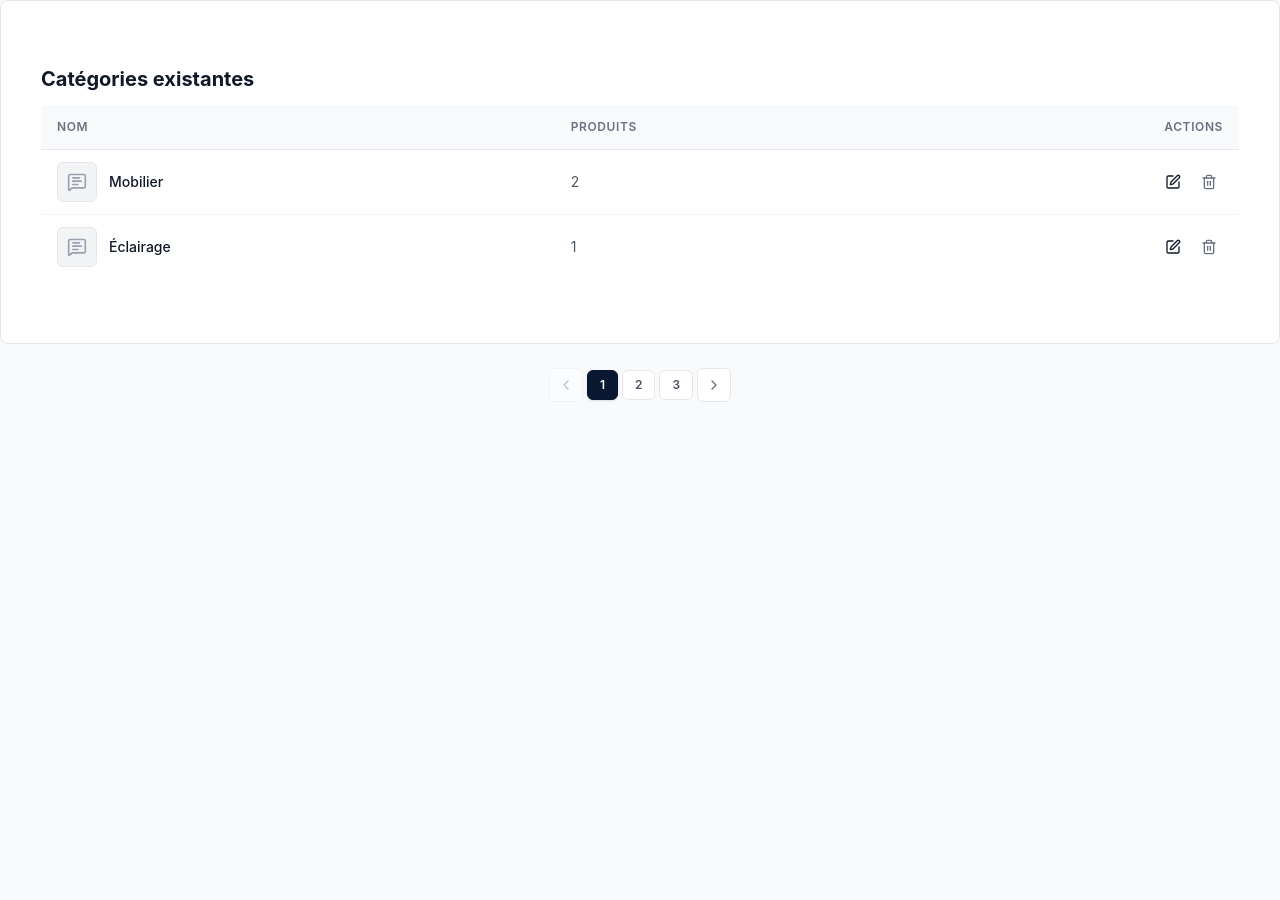
Test case: AdminCategoryTable — suppression › ferme la modale au clic sur Annuler
Click the button named "supprimer mobilier".
click(1209, 182)  # box [1195,168,1223,196]
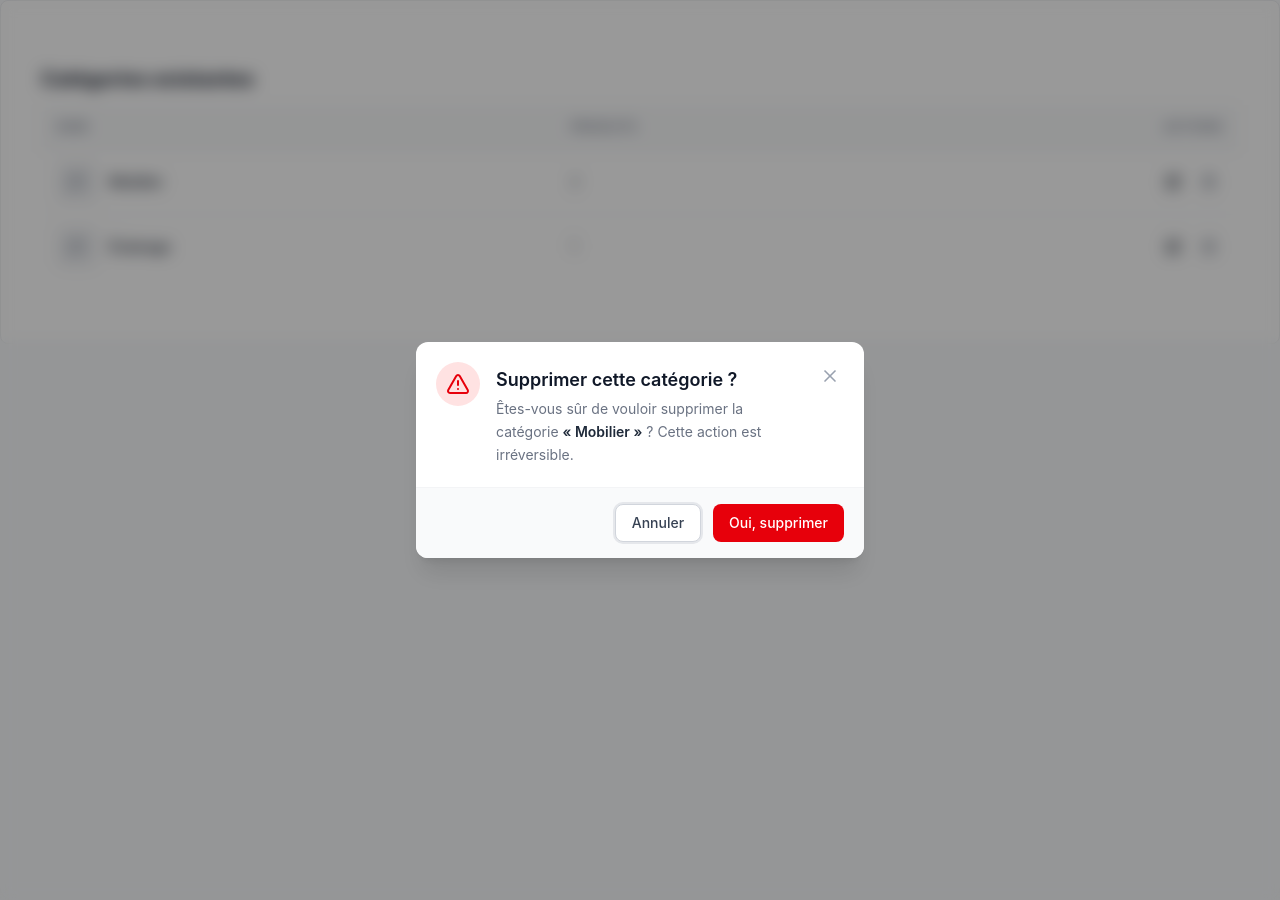
Click the button "Annuler".
click(658, 523)  # box [615,504,701,542]
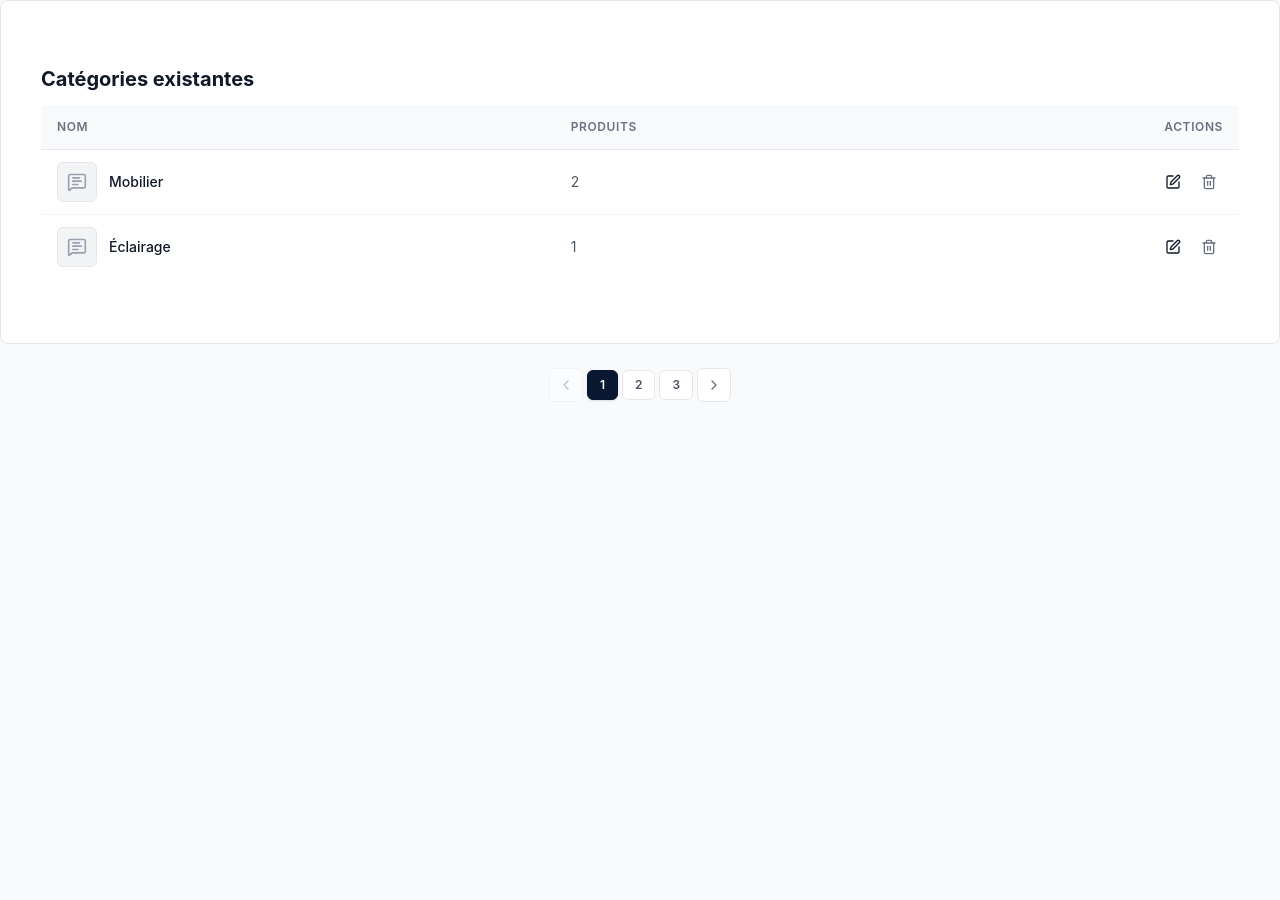
Expected: the dialog is gone
